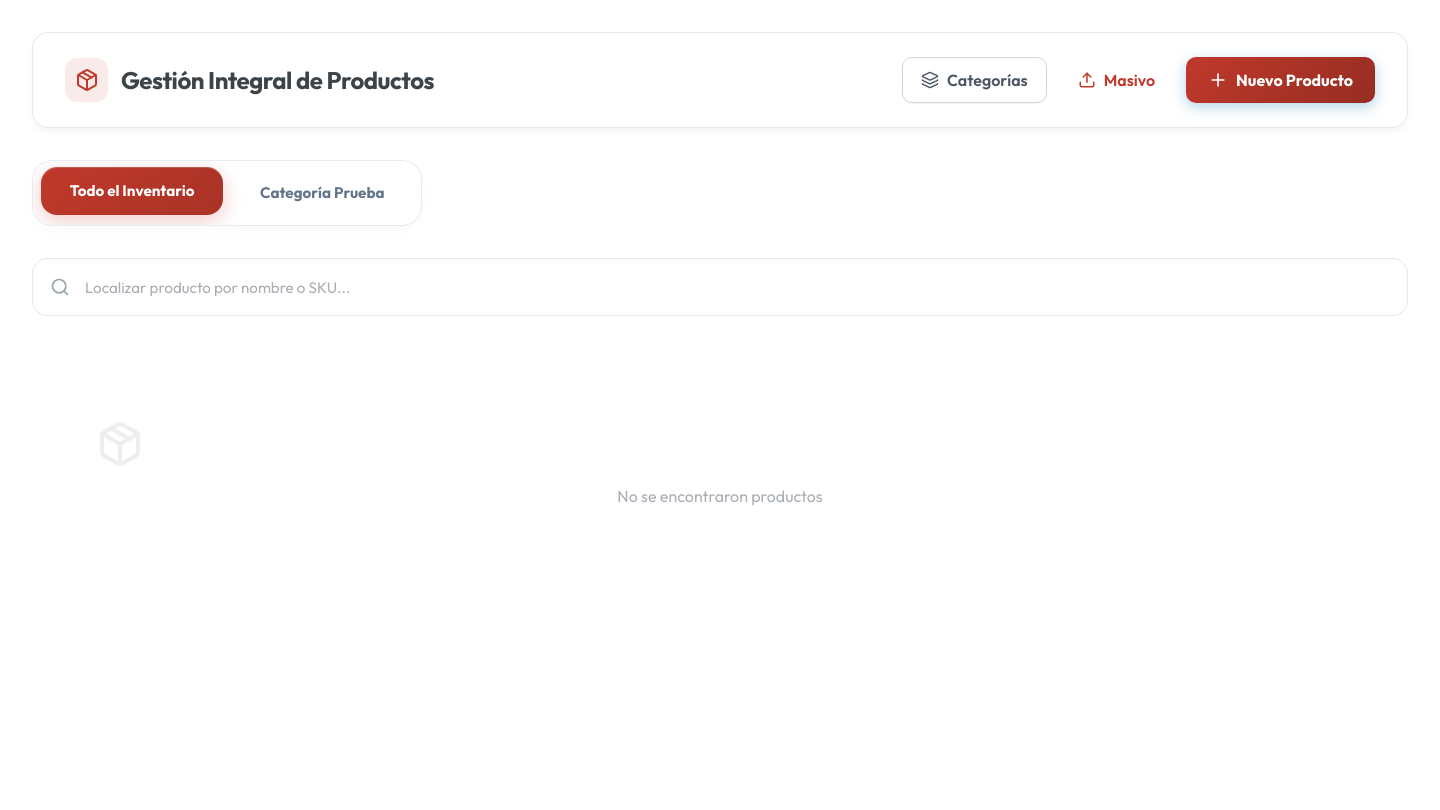
Test case: Matriz de Casos de Prueba - Módulo Inventario › CP-006: Validar caracteres permitidos en el Código Interno
The width and height of the screenshot is (1440, 810).
Click the button "Nuevo Producto" at (1280, 80), box [1186,57,1375,103]
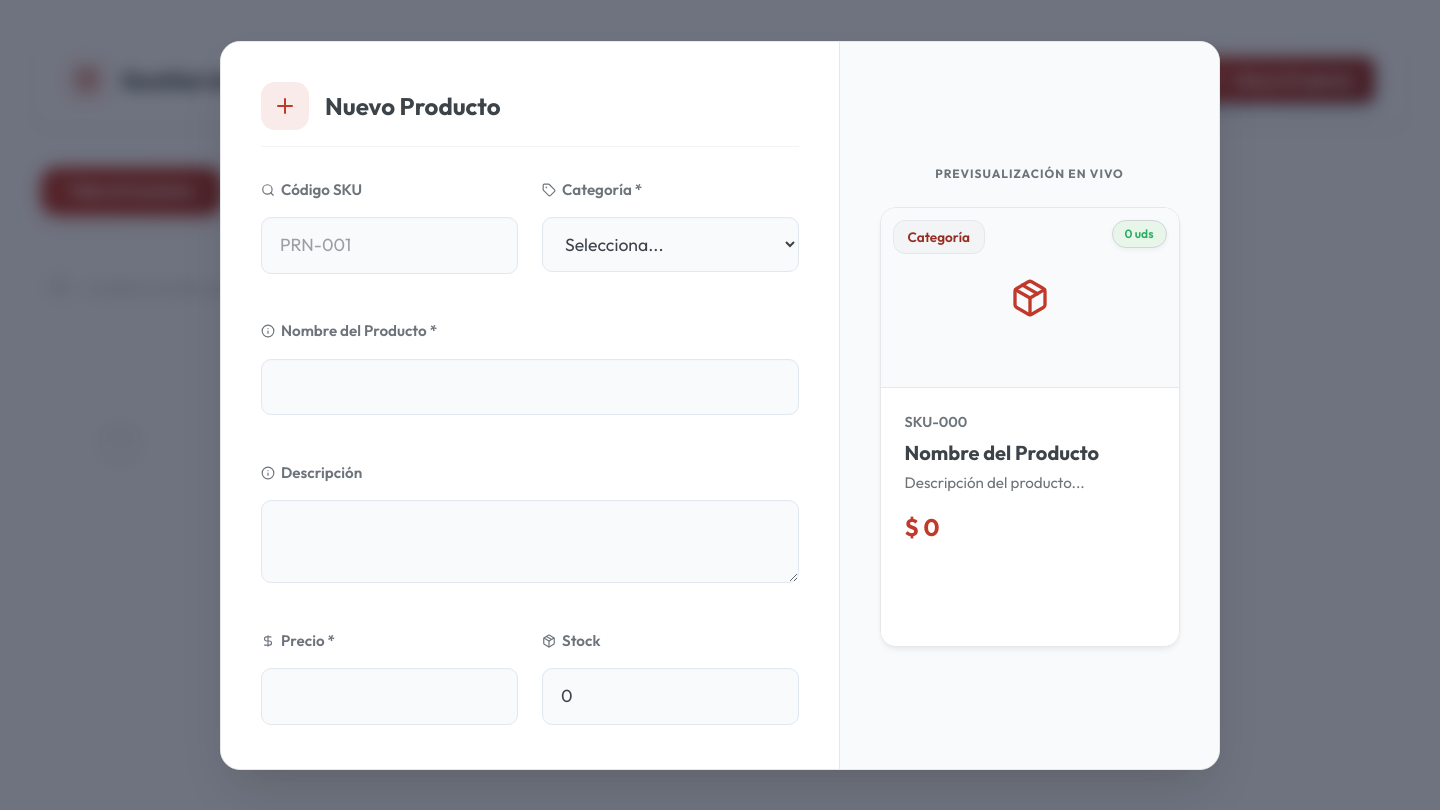
Type "###@@" into the field with placeholder "PRN-001" at (390, 246), box [261,217,518,274]
Select "Categoría Prueba" in the dropdown named "id_categoria" at (670, 245), box [542,217,799,272]
Type "Producto Válido" into the field named "nombre_producto" at (530, 387), box [261,359,799,415]
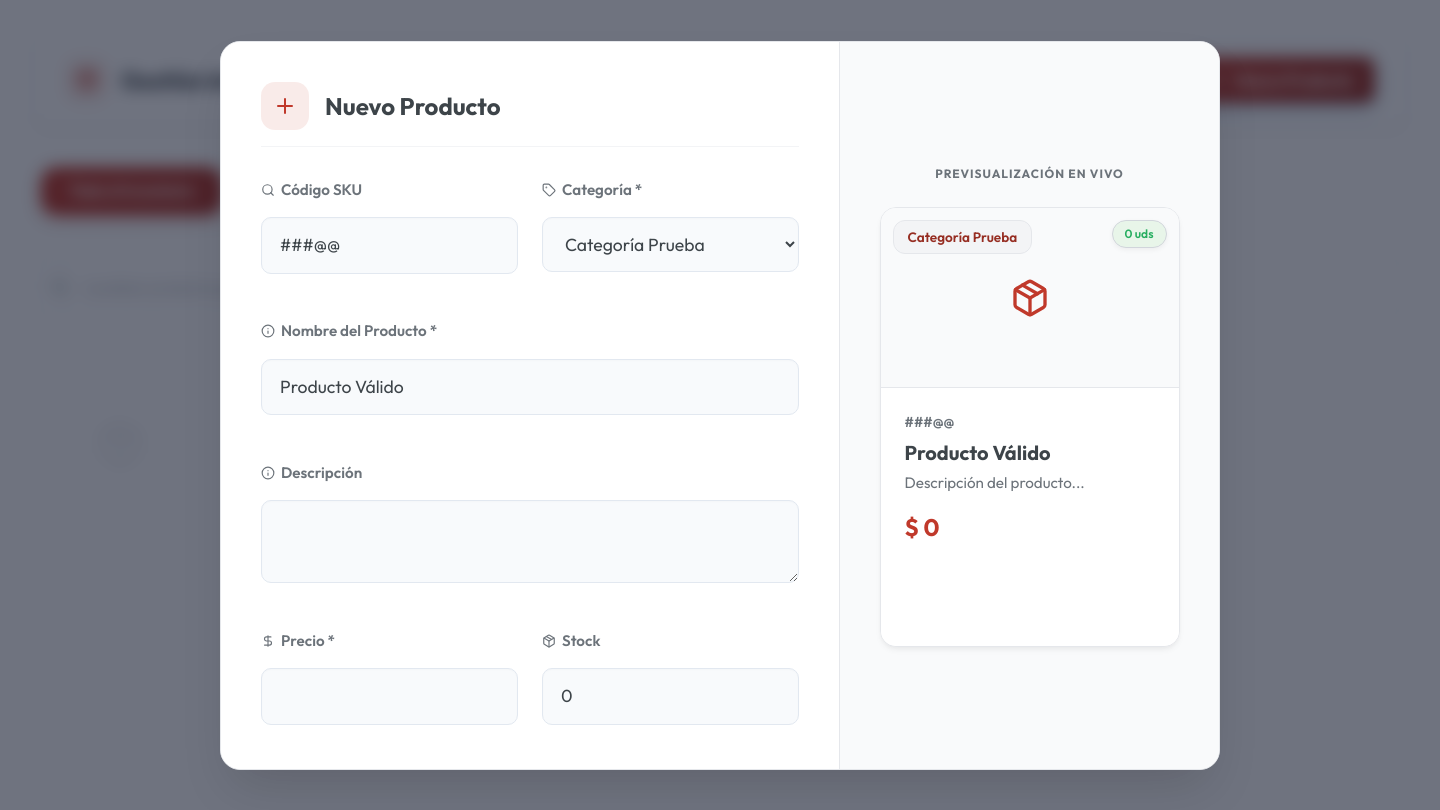
Type "Descripción válida" into the text box named "descripcion" at (530, 542), box [261,500,799,583]
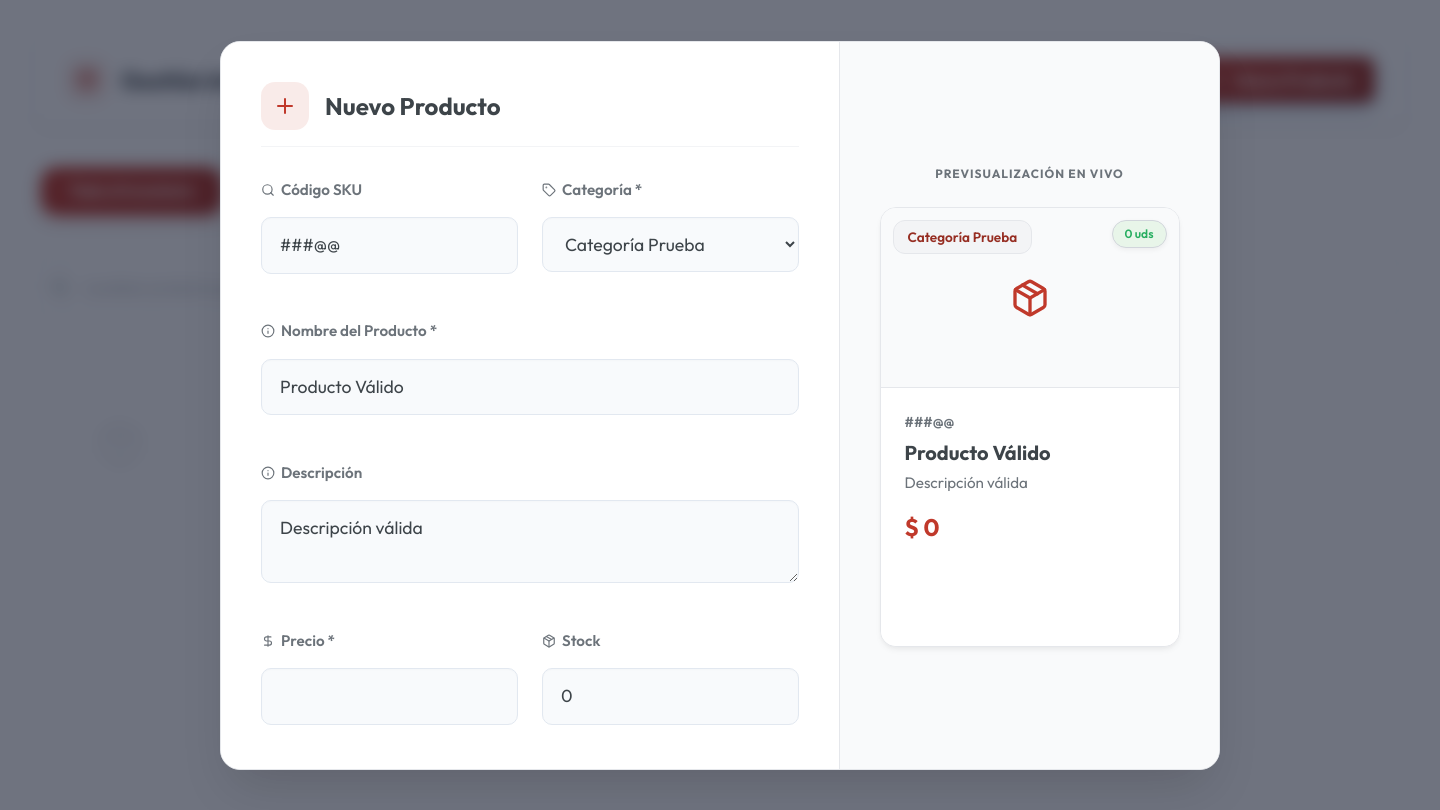
Type "1000" into the number field named "precio" below "Precio *" at (390, 697), box [261,668,518,725]
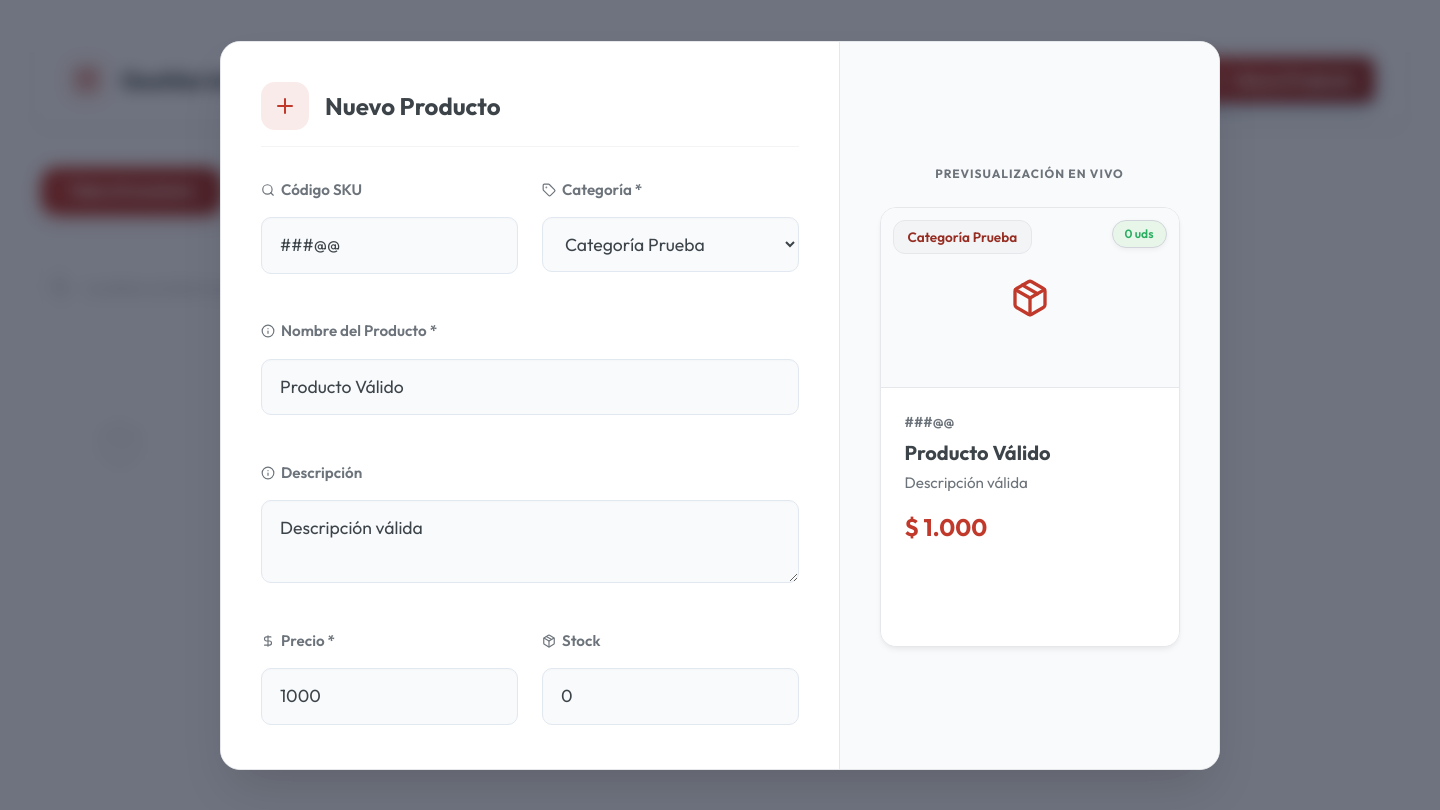
Replace the text in the number field named "stock" below "Stock" with "5" at (670, 697), box [542,668,799,725]
(page scrolled)
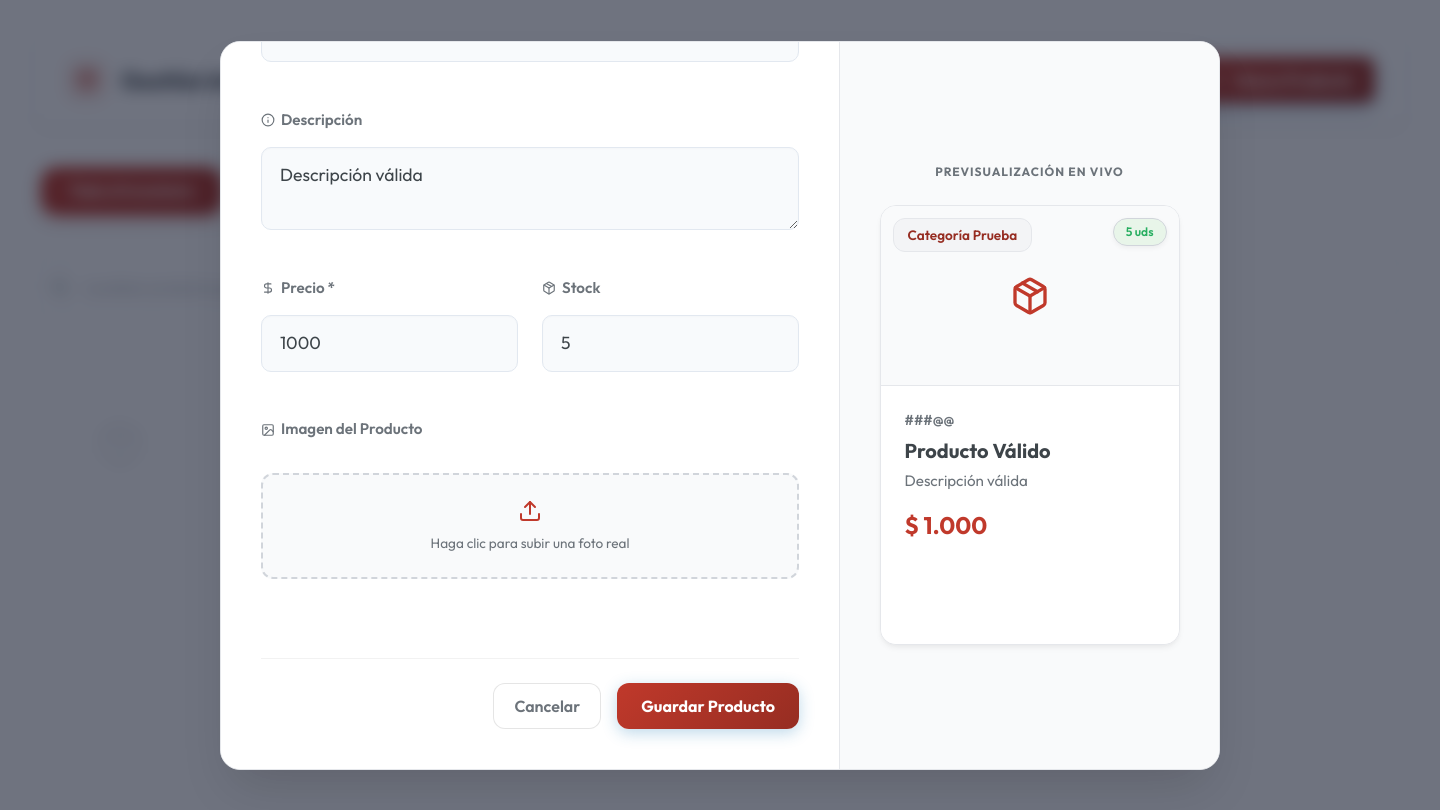
Click the button "Guardar Producto" at (708, 706), box [617,683,799,729]
(page scrolled)
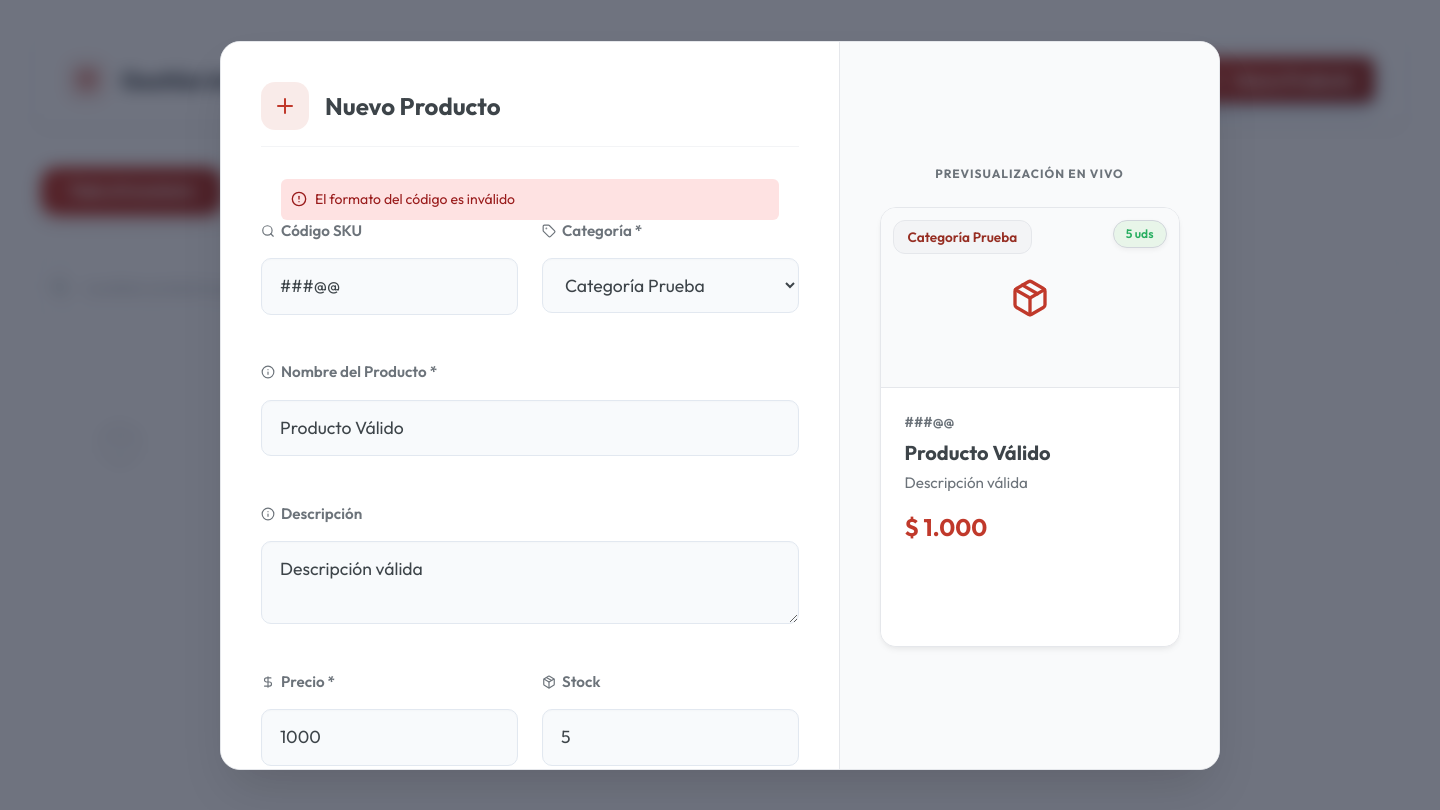
Expected: the text "El formato del código es inválido" is shown, [281,178,779,220]
